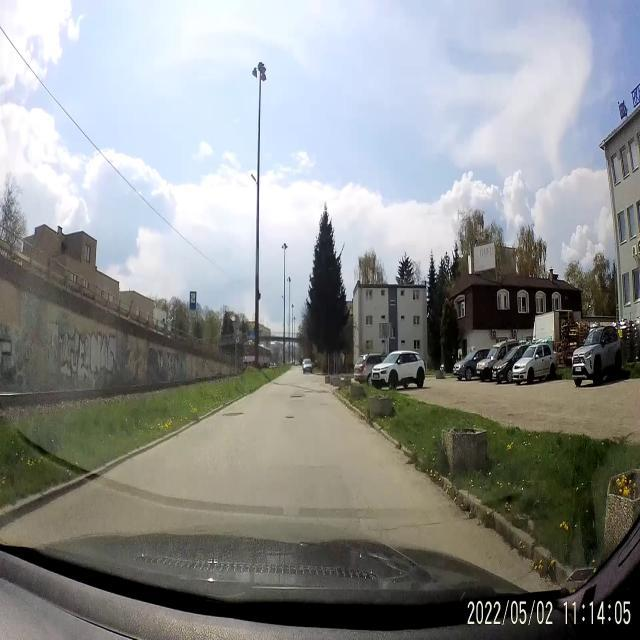Pothole: (221, 408, 249, 419), (288, 390, 304, 404), (283, 413, 297, 423), (318, 388, 329, 396), (304, 388, 318, 393)
